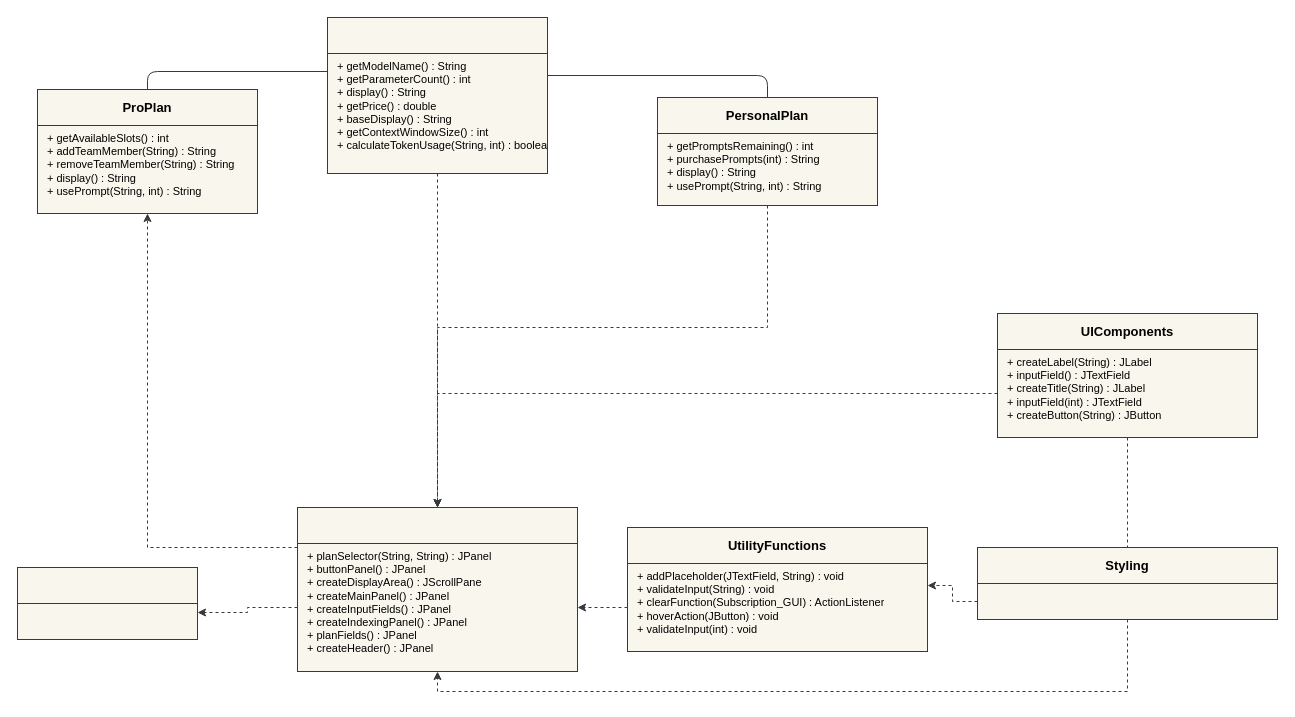
This 1295x717 diagram has some shape labels left out. The box of each missing label's shape, as (x1, y1, x2, y2) in pixels:
(constants / static fields only): (976, 582, 1278, 620)
+ main(String[]) : void: (16, 602, 198, 640)
Main: (16, 566, 198, 604)
Subscription_GUI: (296, 506, 578, 544)
«abstract» AIModel: (326, 16, 548, 54)
